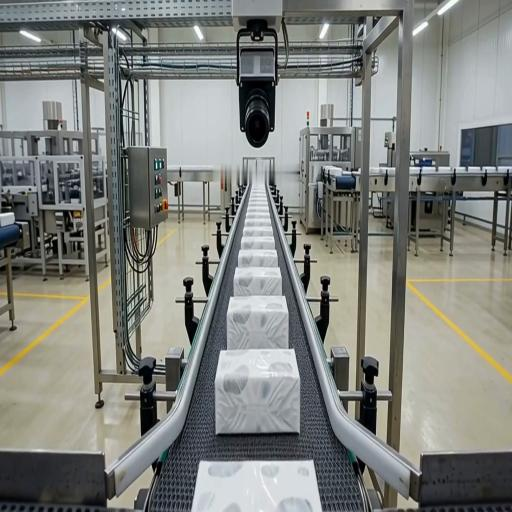good: (215, 349, 300, 434), (192, 461, 321, 511), (227, 296, 288, 350), (234, 267, 282, 296), (238, 250, 278, 267), (241, 236, 275, 249), (243, 226, 273, 237), (245, 217, 271, 227), (246, 211, 270, 219), (247, 205, 269, 212), (249, 197, 268, 205)
